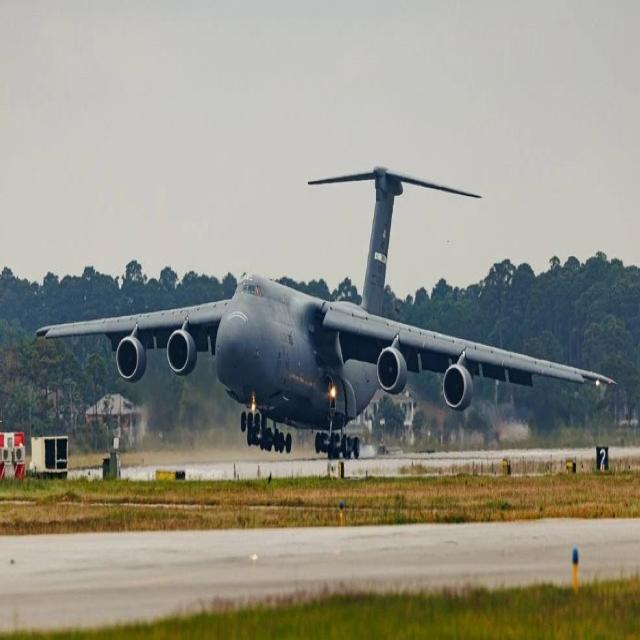C5: (30, 137, 640, 468)
